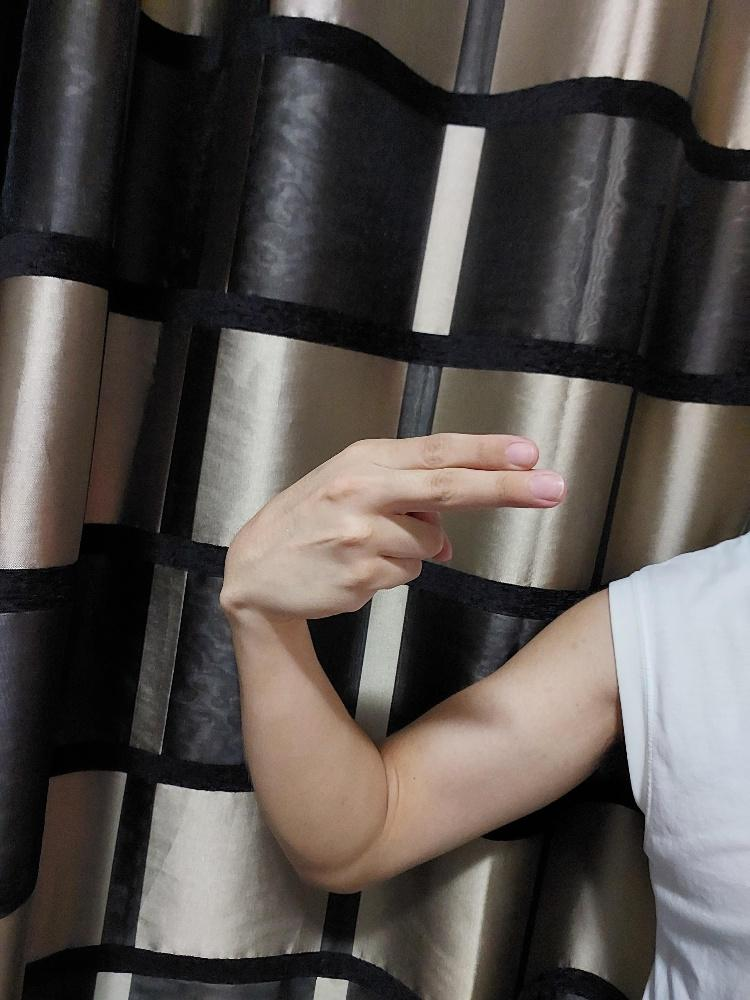h: (218, 429, 570, 623)
